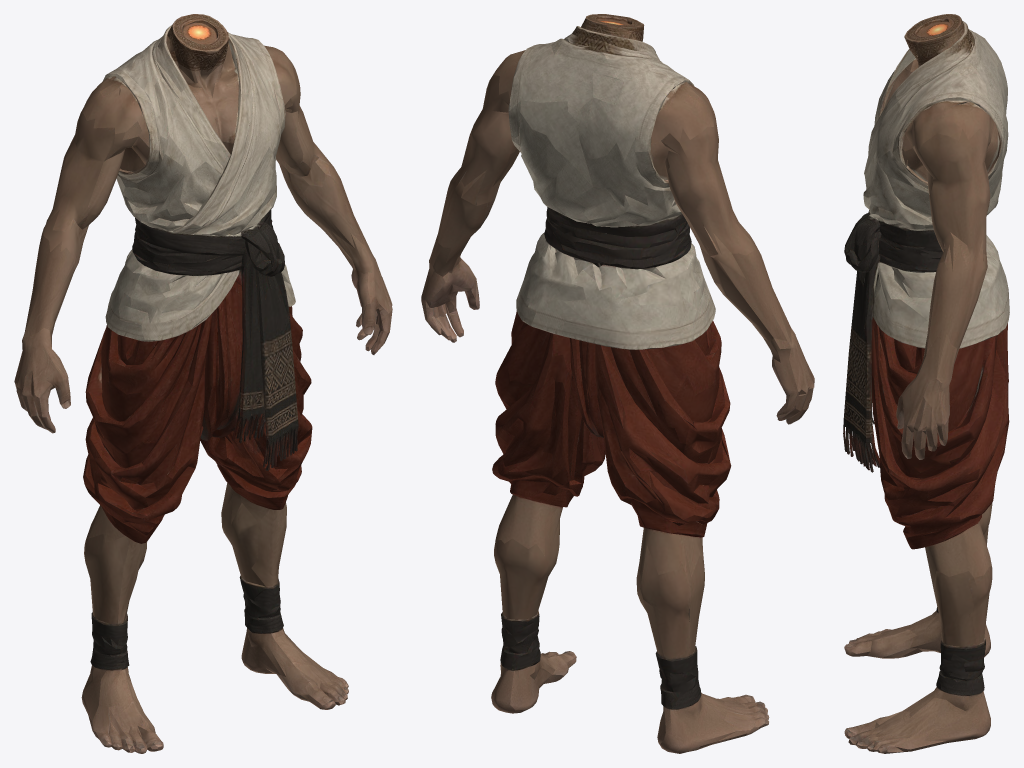
Rendered from headless.glb.
3 views of the same model, side by side, from view 1: azimuth 30°, elevation 25°; view 2: azimuth 150°, elevation 25°; view 3: azimuth 270°, elevation 25° (orthographic). The views are drawn at different scales.
Bounding box in the file's own units: 1.09 × 1.9 × 0.4248.
1 material, 1 textured.
